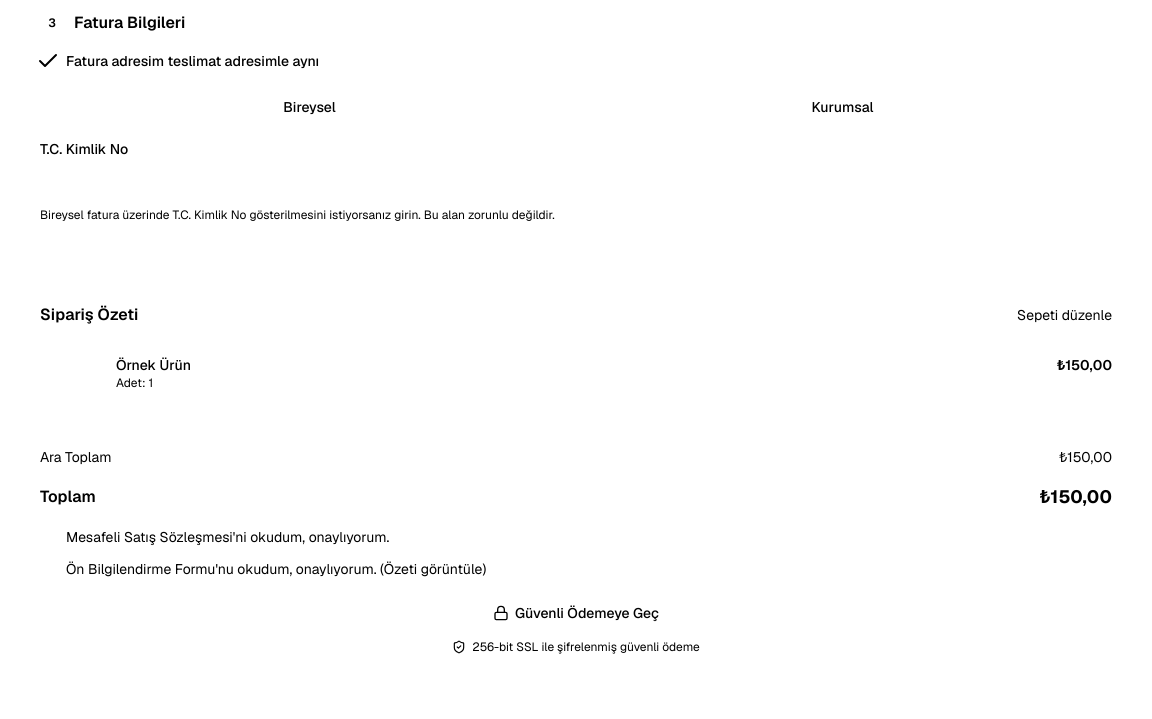
Test case: CheckoutPage — form doğrulaması › zorunlu alanlar boşken submit edilirse doğrulama hataları gösterir ve API çağrılmaz
(page scrolled)
Click the button "Güvenli Ödemeye Geç" at {"x": 576, "y": 613}, box [40,595,1112,631]
(page scrolled)
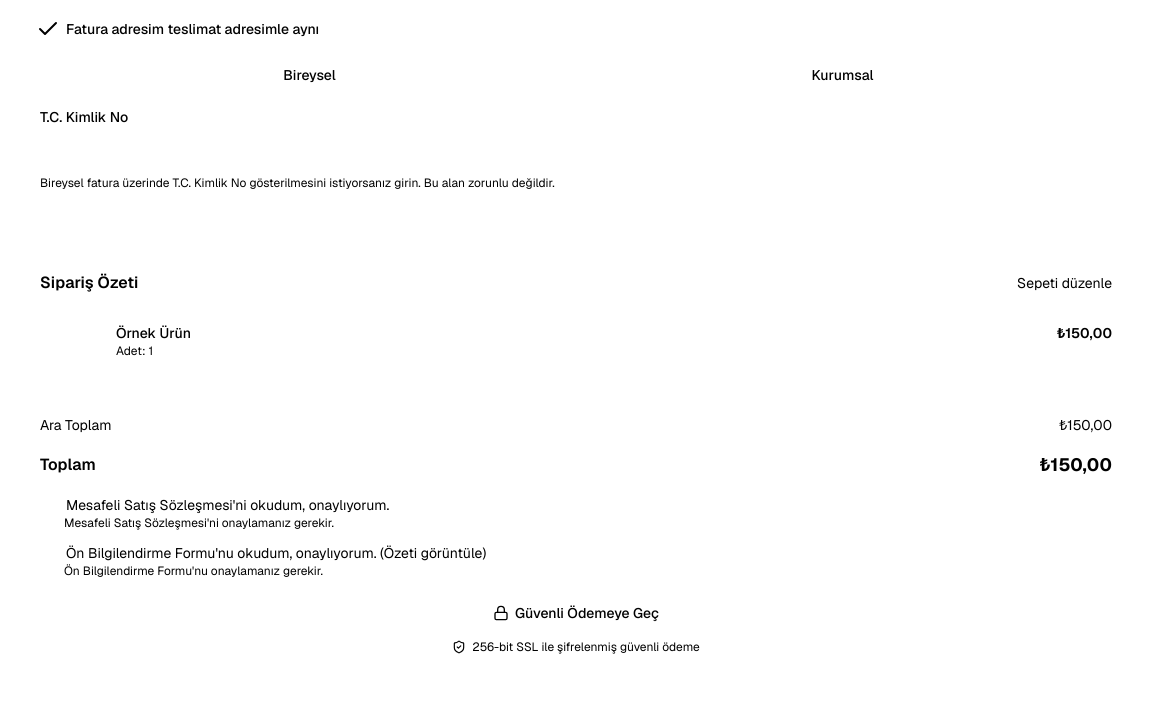
Expected: the text "Mesafeli Satış Sözleşmesi'ni onaylamanız gerekir." is shown, [64,515,334,531]
Expected: the text "Ön Bilgilendirme Formu'nu onaylamanız gerekir." is shown, [64,563,323,579]
